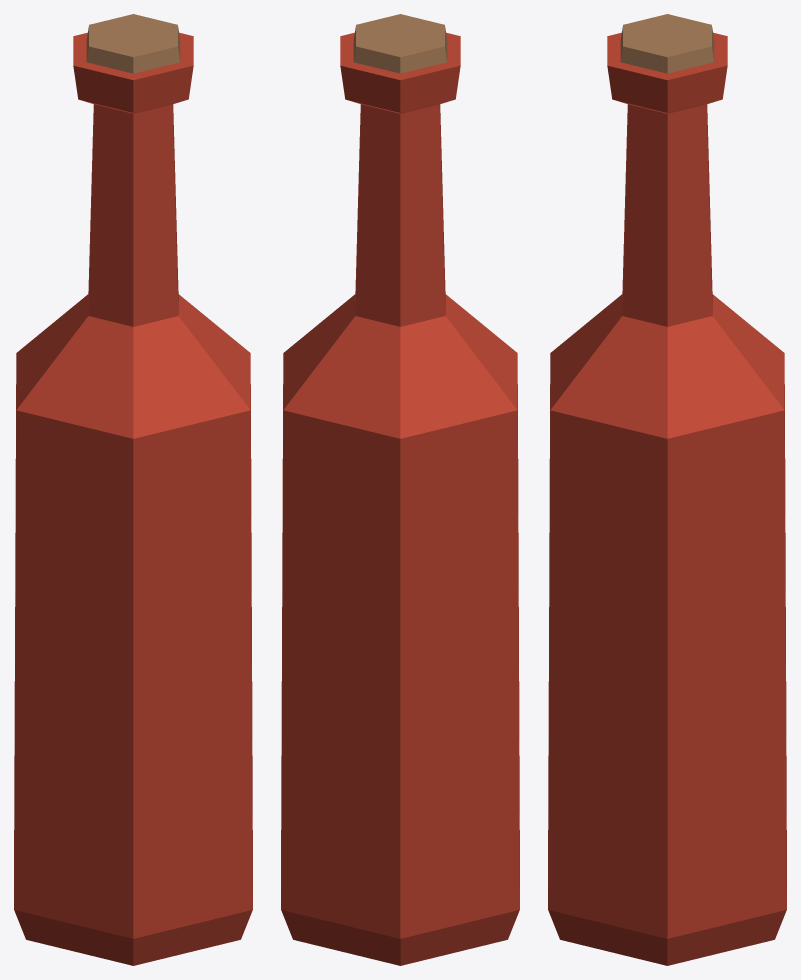
Rendered from Red_Potion_14.fbx.
The picture shows the model from 3 angles, left to right: view 1: azimuth 30°, elevation 25°; view 2: azimuth 150°, elevation 25°; view 3: azimuth 270°, elevation 25°; orthographic projection.
Parts seen in each view (by area): view 1: Red_Potion_14; view 2: Red_Potion_14; view 3: Red_Potion_14.
Boxes of the visible parts, x1,y1,x2,y2 form: Red_Potion_14: (14,14,252,965); Red_Potion_14: (281,14,519,965); Red_Potion_14: (548,14,786,965).
Size of the model in its own units: 13.2 by 46.35 by 11.43.
